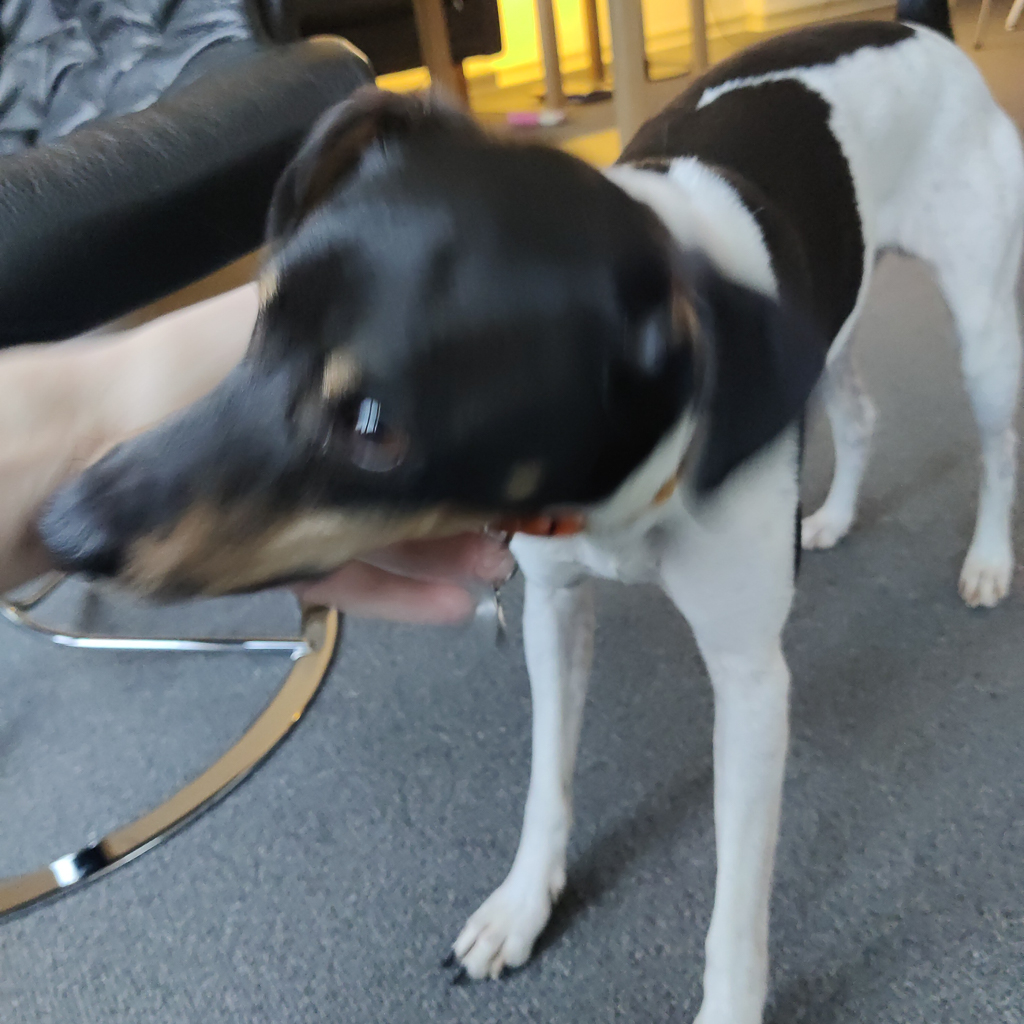Dog: (11, 0, 1024, 1024)
Humanoid: (0, 210, 602, 683)
